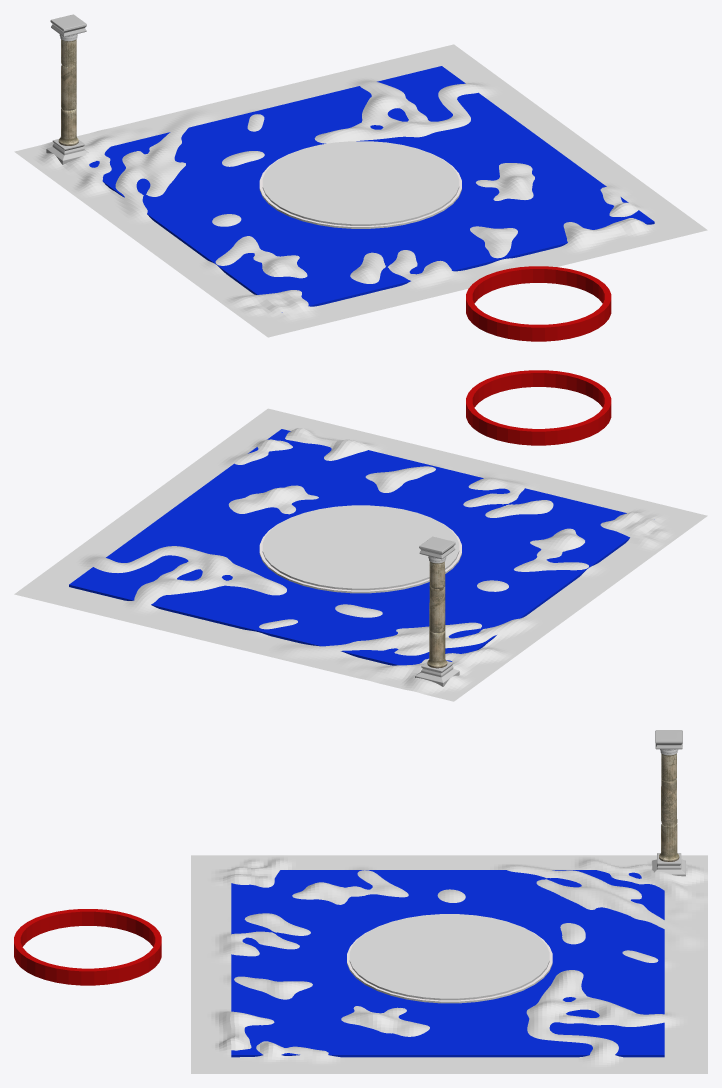
Rendered from level3.fbx.
3 views of the same model, one above another, from view 1: azimuth 30°, elevation 25°; view 2: azimuth 150°, elevation 25°; view 3: azimuth 270°, elevation 25° (orthographic).
Parts seen in each view (by area): view 1: Arena_draft.lwo, Plane, Arena_draft.lwo.002, Arena_draft.lwo.037, mesh_01_low, mesh_02_low, Arena_draft.lwo.001; view 2: Arena_draft.lwo, Plane, Arena_draft.lwo.002, Arena_draft.lwo.037, mesh_01_low, mesh_02_low, Arena_draft.lwo.001; view 3: Arena_draft.lwo, Plane, Arena_draft.lwo.002, Arena_draft.lwo.037, mesh_01_low, mesh_02_low, Arena_draft.lwo.001.
Boxes of the visible parts, x1,y1,x2,y2 form: Arena_draft.lwo: (89,66,654,312); Plane: (14,44,707,337); Arena_draft.lwo.002: (262,141,459,225); Arena_draft.lwo.037: (466,266,611,341); mesh_01_low: (58,39,78,145); mesh_02_low: (46,14,88,164); Arena_draft.lwo.001: (259,154,461,228); Arena_draft.lwo: (69,429,629,665); Plane: (14,408,707,701); Arena_draft.lwo.002: (262,505,459,590); Arena_draft.lwo.037: (466,370,611,445); mesh_01_low: (427,561,447,668); mesh_02_low: (415,536,459,686); Arena_draft.lwo.001: (259,519,461,593); Arena_draft.lwo: (231,870,664,1057); Plane: (191,855,707,1073); Arena_draft.lwo.002: (349,914,549,1000); Arena_draft.lwo.037: (14,909,161,985); mesh_01_low: (659,753,679,861); mesh_02_low: (652,730,685,876); Arena_draft.lwo.001: (347,927,552,1003).
Bounding box in the file's own units: 8111 × 2478 × 10888.
